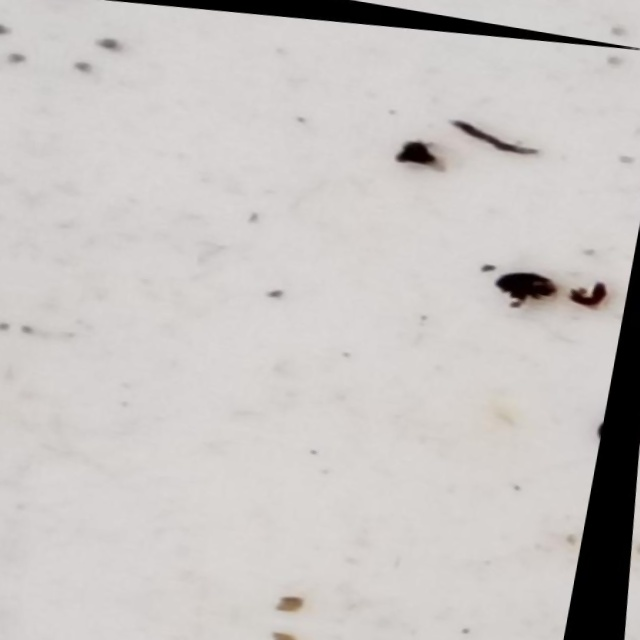varroa: (493, 264, 563, 305)
